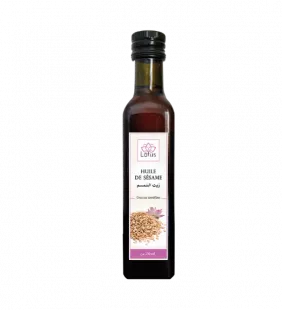LOTUS: (115, 19, 181, 285)
